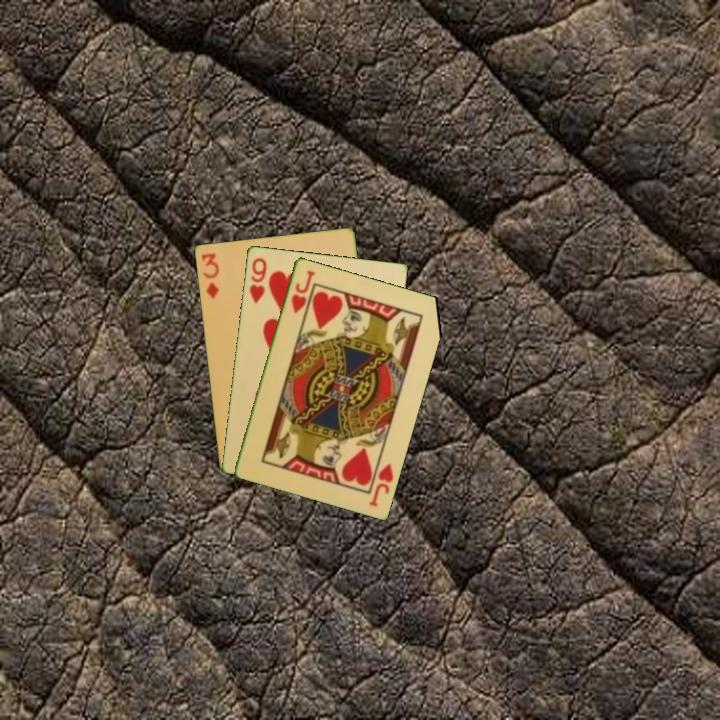3d: (197, 249, 222, 301)
9h: (246, 254, 269, 306)
Jh: (365, 459, 396, 509), (288, 266, 318, 316)
